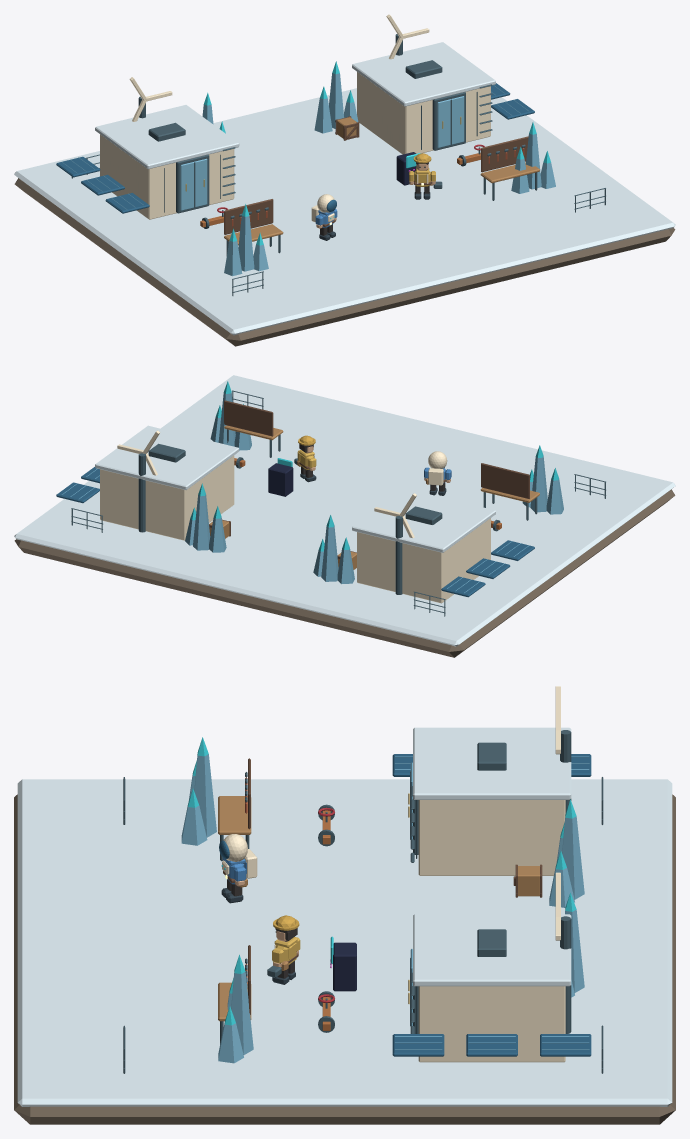
Rendered from world-snow.glb.
3 views of the same model, one above another, from view 1: azimuth 30°, elevation 25°; view 2: azimuth 150°, elevation 25°; view 3: azimuth 270°, elevation 25° (orthographic). The views are drawn at different scales.
Parts seen in each view (by area): view 1: terrain-top, terrain-stratum, polar-lab.001, snow-roof, snow-roof.001, polar-lab, airlock-door.001, airlock-door, pegboard.002, pegboard.001, crystal.004, crystal.013 (+8 smaller); view 2: terrain-top, terrain-stratum, polar-lab, polar-lab.001, snow-roof.001, snow-roof, pegboard.002, pegboard.001, terminal-base.001, crystal.010, crystal.013, crystal.004 (+11 smaller); view 3: terrain-top, terrain-stratum, polar-lab, snow-roof.001, snow-roof, polar-lab.001, crystal.004, crystal.010, solar-panel.003, crystal.007, terminal-base.001, solar-panel.005 (+9 smaller).
Boxes of the visible parts, x1,y1,x2,y2 form: terrain-top: (14, 88, 675, 335); terrain-stratum: (14, 178, 675, 346); polar-lab.001: (357, 72, 490, 154); snow-roof: (95, 105, 239, 169); snow-roof.001: (352, 42, 495, 106); polar-lab: (100, 134, 234, 219); airlock-door.001: (437, 96, 464, 147); airlock-door: (180, 158, 207, 210); pegboard.002: (481, 136, 528, 172); pegboard.001: (224, 199, 273, 234); crystal.004: (238, 216, 254, 271); crystal.013: (329, 73, 344, 128); terrain-top: (14, 375, 675, 646); terrain-stratum: (14, 489, 675, 657); polar-lab: (357, 518, 490, 603); polar-lab.001: (100, 455, 234, 540); snow-roof.001: (95, 425, 239, 489); snow-roof: (352, 488, 495, 552); pegboard.002: (224, 400, 273, 436); pegboard.001: (481, 463, 529, 498); terminal-base.001: (268, 463, 293, 496); crystal.010: (321, 525, 338, 581); crystal.013: (193, 494, 210, 550); crystal.004: (530, 456, 547, 512); terrain-top: (17, 779, 672, 1106); terrain-stratum: (14, 794, 675, 1124); polar-lab: (418, 800, 565, 875); snow-roof.001: (413, 914, 571, 986); snow-roof: (413, 727, 571, 799); polar-lab.001: (418, 986, 565, 1062); crystal.004: (194, 754, 216, 837); crystal.010: (562, 816, 584, 899); solar-panel.003: (392, 1034, 444, 1056); crystal.007: (231, 972, 253, 1054); terminal-base.001: (333, 942, 356, 991); solar-panel.005: (540, 1034, 591, 1056).
Bounding box in the file's own units: 21 × 5.4 × 18.
